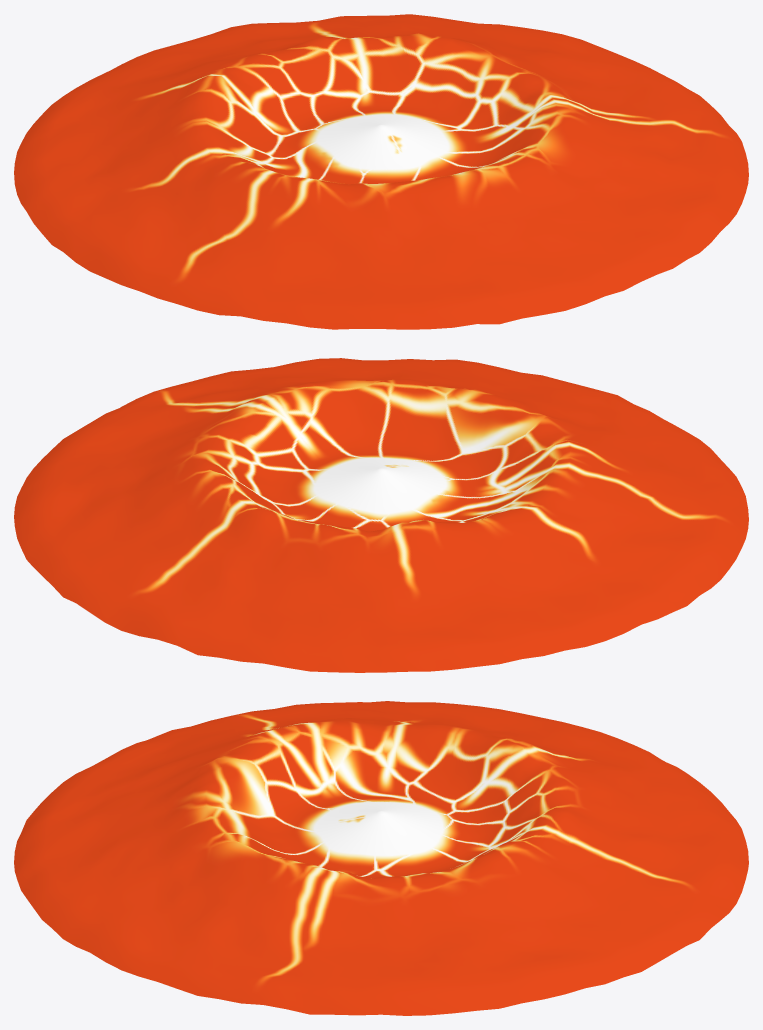
The model's file is magma_fire.glb.
3 renders of one model, top to bottom at view 1: azimuth 30°, elevation 25°; view 2: azimuth 150°, elevation 25°; view 3: azimuth 270°, elevation 25°, orthographic.
Parts seen in each view (by area): view 1: magma; view 2: magma; view 3: magma.
Part boxes in pixels (x1=…): magma: x1=14, y1=14, x2=748, y2=329; magma: x1=14, y1=358, x2=748, y2=672; magma: x1=14, y1=701, x2=748, y2=1015.
Size of the model in its own units: 4 by 0.4326 by 4.
Materials: 1 (1 with a texture image).
